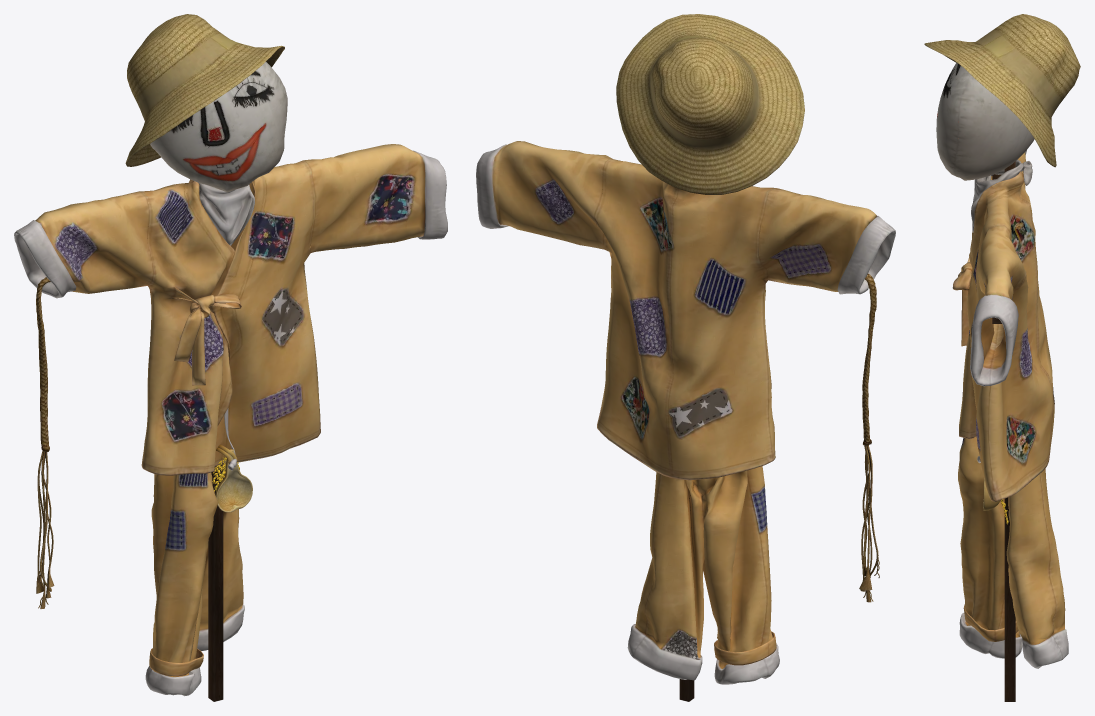
The model's file is scarecrow.glb.
3 renders of one model, left to right at view 1: azimuth 30°, elevation 25°; view 2: azimuth 150°, elevation 25°; view 3: azimuth 270°, elevation 25°, orthographic.
Visible parts, largest first — view 1: Scarecrow_M_Scarecrown_Top_0, Scarecrow_M_Scarecrown_Top_0.007, Scarecrow_M_Scarecrown_Top_0.003, Scarecrow_M_Scarecrown_Hat_0.150, Scarecrow_M_Scarecrown_Hat_0.014, Scarecrow_M_Scarecrown_Top_0.008, Scarecrow_M_Scarecrown_Bot_0.010, Scarecrow_M_Scarecrown_Bot_0.011, Scarecrow_M_Scarecrown_Hat_0.137, Scarecrow_M_Scarecrown_Bot_0.003, Scarecrow_M_Scarecrown_Bot_0.008, Scarecrow_M_Scarecrown_Hat_0.002 (+5 smaller); view 2: Scarecrow_M_Scarecrown_Top_0.001, Scarecrow_M_Scarecrown_Hat_0.150, Scarecrow_M_Scarecrown_Top_0.002, Scarecrow_M_Scarecrown_Bot_0.008, Scarecrow_M_Scarecrown_Bot_0.007, Scarecrow_M_Scarecrown_Top_0.009, Scarecrow_M_Scarecrown_Bot_0.010, Scarecrow_M_Scarecrown_Bot_0.011, Scarecrow_M_Scarecrown_Hat_0.002, Scarecrow_M_Scarecrown_Bot_0.016; view 3: Scarecrow_M_Scarecrown_Top_0.001, Scarecrow_M_Scarecrown_Hat_0.150, Scarecrow_M_Scarecrown_Bot_0.010, Scarecrow_M_Scarecrown_Bot_0.011, Scarecrow_M_Scarecrown_Hat_0.013, Scarecrow_M_Scarecrown_Top_0, Scarecrow_M_Scarecrown_Top_0.002, Scarecrow_M_Scarecrown_Top_0.003, Scarecrow_M_Scarecrown_Hat_0.014, Scarecrow_M_Scarecrown_Hat_0.137, Scarecrow_M_Scarecrown_Bot_0.007, Scarecrow_M_Scarecrown_Top_0.007 (+7 smaller).
Boxes of the visible parts, <box> form: Scarecrow_M_Scarecrown_Top_0: <box>208,163,320,467</box>; Scarecrow_M_Scarecrown_Top_0.007: <box>142,180,234,475</box>; Scarecrow_M_Scarecrown_Top_0.003: <box>307,146,447,252</box>; Scarecrow_M_Scarecrown_Hat_0.150: <box>125,14,284,163</box>; Scarecrow_M_Scarecrown_Hat_0.014: <box>150,62,287,192</box>; Scarecrow_M_Scarecrown_Top_0.008: <box>19,193,153,297</box>; Scarecrow_M_Scarecrown_Bot_0.010: <box>147,472,218,696</box>; Scarecrow_M_Scarecrown_Bot_0.011: <box>197,470,244,650</box>; Scarecrow_M_Scarecrown_Hat_0.137: <box>208,465,223,701</box>; Scarecrow_M_Scarecrown_Bot_0.003: <box>198,183,254,245</box>; Scarecrow_M_Scarecrown_Bot_0.008: <box>145,474,173,682</box>; Scarecrow_M_Scarecrown_Hat_0.002: <box>36,277,50,451</box>; Scarecrow_M_Scarecrown_Top_0.001: <box>595,159,773,480</box>; Scarecrow_M_Scarecrown_Hat_0.150: <box>616,14,804,194</box>; Scarecrow_M_Scarecrown_Top_0.002: <box>476,142,609,249</box>; Scarecrow_M_Scarecrown_Bot_0.008: <box>698,470,768,684</box>; Scarecrow_M_Scarecrown_Bot_0.007: <box>632,474,704,680</box>; Scarecrow_M_Scarecrown_Top_0.009: <box>759,190,892,294</box>; Scarecrow_M_Scarecrown_Bot_0.010: <box>747,466,779,678</box>; Scarecrow_M_Scarecrown_Bot_0.011: <box>627,472,660,656</box>; Scarecrow_M_Scarecrown_Hat_0.002: <box>862,273,876,445</box>; Scarecrow_M_Scarecrown_Bot_0.016: <box>714,640,768,665</box>; Scarecrow_M_Scarecrown_Top_0.001: <box>988,171,1054,501</box>; Scarecrow_M_Scarecrown_Hat_0.150: <box>924,14,1080,167</box>; Scarecrow_M_Scarecrown_Bot_0.010: <box>958,436,1004,653</box>; Scarecrow_M_Scarecrown_Bot_0.011: <box>1006,474,1062,668</box>; Scarecrow_M_Scarecrown_Hat_0.013: <box>955,75,1034,180</box>; Scarecrow_M_Scarecrown_Top_0: <box>967,186,996,501</box>; Scarecrow_M_Scarecrown_Top_0.002: <box>990,226,1025,385</box>; Scarecrow_M_Scarecrown_Top_0.003: <box>970,226,998,386</box>; Scarecrow_M_Scarecrown_Hat_0.014: <box>936,62,970,178</box>; Scarecrow_M_Scarecrown_Hat_0.137: <box>1004,161,1015,701</box>; Scarecrow_M_Scarecrown_Bot_0.007: <box>1040,468,1068,659</box>; Scarecrow_M_Scarecrown_Top_0.007: <box>959,232,976,438</box>.
Bounding box in the file's own units: 1.11 × 1.73 × 0.3663.
3 materials, 3 textured.
